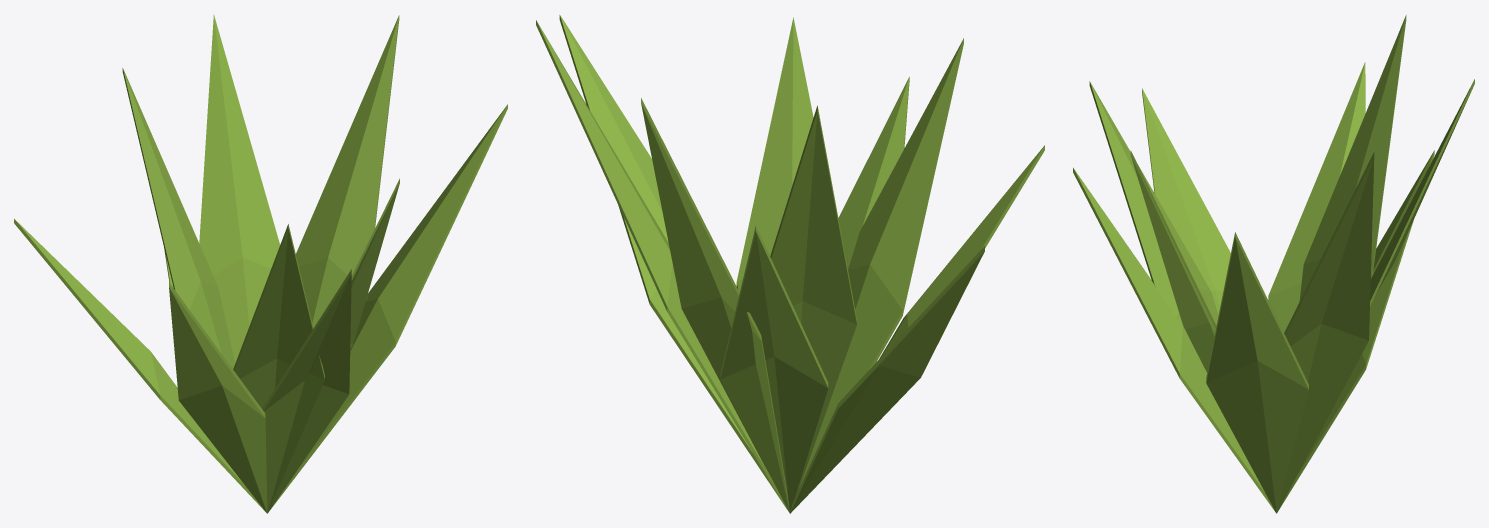
3 renders of one model, left to right at view 1: azimuth 30°, elevation 25°; view 2: azimuth 150°, elevation 25°; view 3: azimuth 270°, elevation 25°, orthographic. The views are drawn at different scales.
Visible parts, largest first — view 1: 完整灌木_6.001; view 2: 完整灌木_6.001; view 3: 完整灌木_6.001.
Part boxes in pixels (x1,y1,x2,y2): 完整灌木_6.001: (14,14,507,513); 完整灌木_6.001: (536,14,1044,513); 完整灌木_6.001: (1073,15,1474,513).
Bounding box in the file's own units: 0.3776 × 0.3524 × 0.2817.
